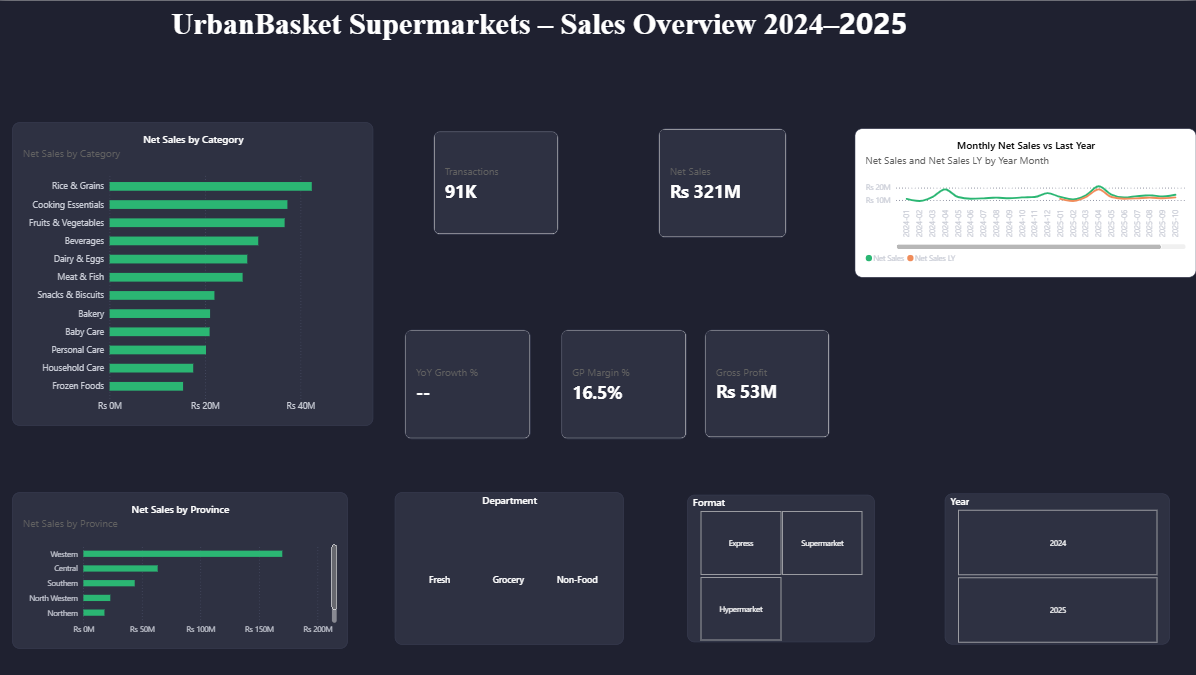

Layout of this report page (visuals, bound fields, positions):
{"tool":"powerbi","page":{"name":"overview","canvas":[1920,1080],"ordinal":0},"visuals":[{"type":"textbox","box":[10,0,280,280],"z":0},{"type":"textbox","box":[10,290,280,280],"z":1000},{"type":"textbox","box":[273.3,0,1185,280],"z":2000},{"type":"cardVisual","fields":{"Data":["_Measures.Net Sales"]},"box":[1060.1,204.3,205,175],"z":3000},{"type":"cardVisual","fields":{"Data":["_Measures.Gross Profit"]},"box":[1133.3,526.7,200,173.3],"z":4000},{"type":"cardVisual","fields":{"Data":["_Measures.GP Margin %"]},"box":[903.3,525,201.7,175],"z":5000},{"type":"cardVisual","fields":{"Data":["_Measures.Transactions"]},"box":[699.4,208,200,166.7],"z":6000},{"type":"cardVisual","fields":{"Data":["_Measures.YoY Growth %"]},"box":[653.3,525,201.7,175],"z":7000},{"type":"lineChart","title":"Monthly Net Sales vs Last Year","fields":{"Category":["Date.Year Month"],"Y":["_Measures.Net Sales","_Measures.Net Sales LY"]},"box":[1373,204.3,546.7,238.3],"z":8000},{"type":"barChart","title":"Net Sales by Category","fields":{"Category":["products.Category"],"Y":["_Measures.Net Sales"]},"box":[25.8,193.3,577.9,485.9],"z":9000},{"type":"clusteredBarChart","title":"Net Sales by Province","fields":{"Category":["branches.Province"],"Y":["_Measures.Net Sales"]},"box":[25,786.7,536.7,250],"z":10000},{"type":"slicer","fields":{"Values":["Date.Year"]},"box":[1518,788,360,241.7],"z":11000},{"type":"slicer","fields":{"Values":["branches.Format"]},"box":[1106,790,300,236],"z":12000},{"type":"advancedSlicerVisual","fields":{"Values":["products.Department"]},"box":[638,786,366,244],"z":13000}]}

Visuals, with their boxes in screenshot pixels (x1, y1, x2, y2), scaled from the page's 1920x1080 canvas onto the 1196x675 screenshot:
textbox: 6, 0, 181, 175
textbox: 6, 181, 181, 356
textbox: 170, 0, 908, 175
cardVisual - _Measures.Net Sales: 660, 128, 788, 237
cardVisual - _Measures.Gross Profit: 706, 329, 831, 438
cardVisual - _Measures.GP Margin %: 563, 328, 688, 438
cardVisual - _Measures.Transactions: 436, 130, 560, 234
cardVisual - _Measures.YoY Growth %: 407, 328, 533, 438
"Monthly Net Sales vs Last Year" lineChart: 855, 128, 1195, 277
"Net Sales by Category" barChart: 16, 121, 376, 424
"Net Sales by Province" clusteredBarChart: 16, 492, 350, 648
slicer - Date.Year: 946, 492, 1170, 644
slicer - branches.Format: 689, 494, 876, 641
advancedSlicerVisual - products.Department: 397, 491, 625, 644
